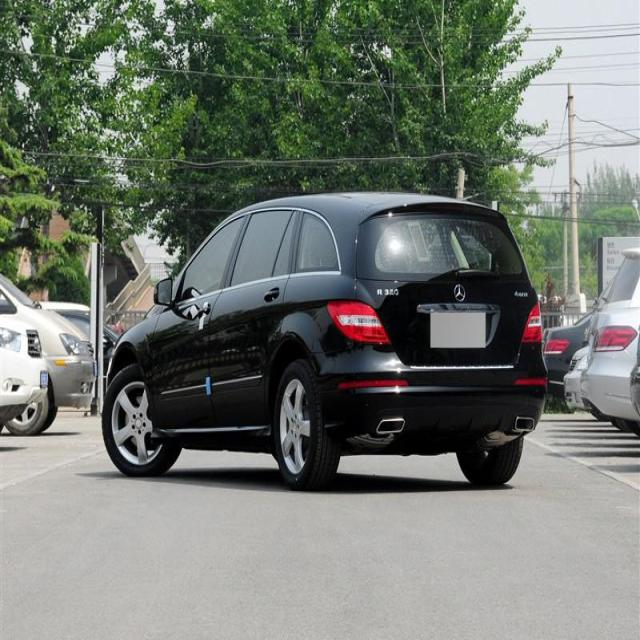back_glass: (354, 206, 524, 280)
back_left_side_light: (325, 294, 392, 346)
back_right_side_light: (520, 300, 542, 347)
door: (210, 213, 302, 432)
front_left_side_door: (147, 211, 248, 431)
front_left_side_mirror: (154, 274, 174, 310)
rear_bumper: (322, 347, 548, 439)
wheel: (102, 365, 180, 475), (274, 359, 332, 485), (454, 437, 522, 485)
